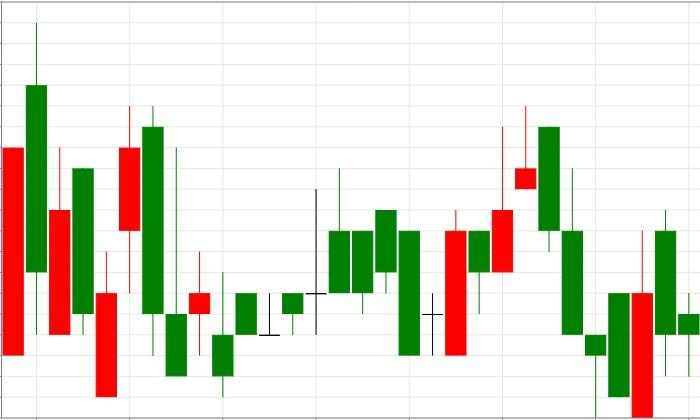bullish_engulfing_rise: (539, 127, 653, 418)
shooting_star_fall: (445, 105, 537, 356)
